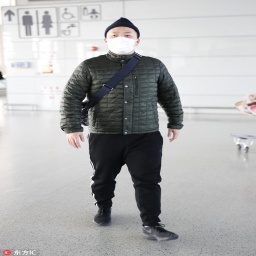correctlyWear: (104, 29, 140, 55)
